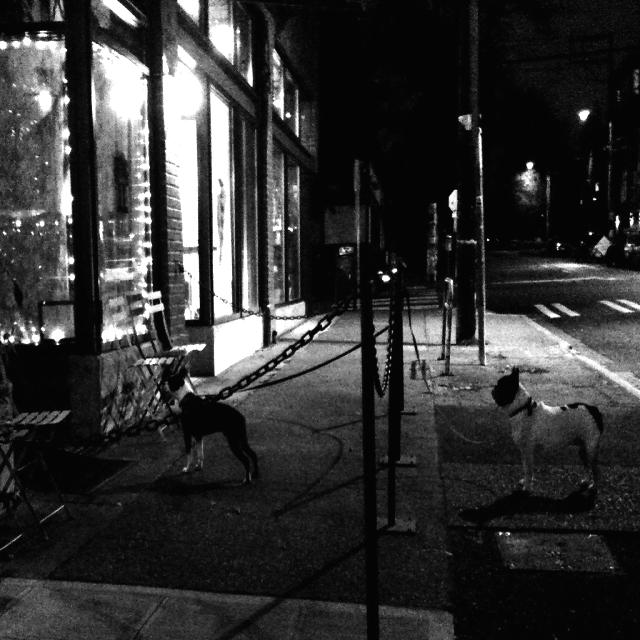Dog: (492, 369, 606, 498), (178, 391, 261, 485)
